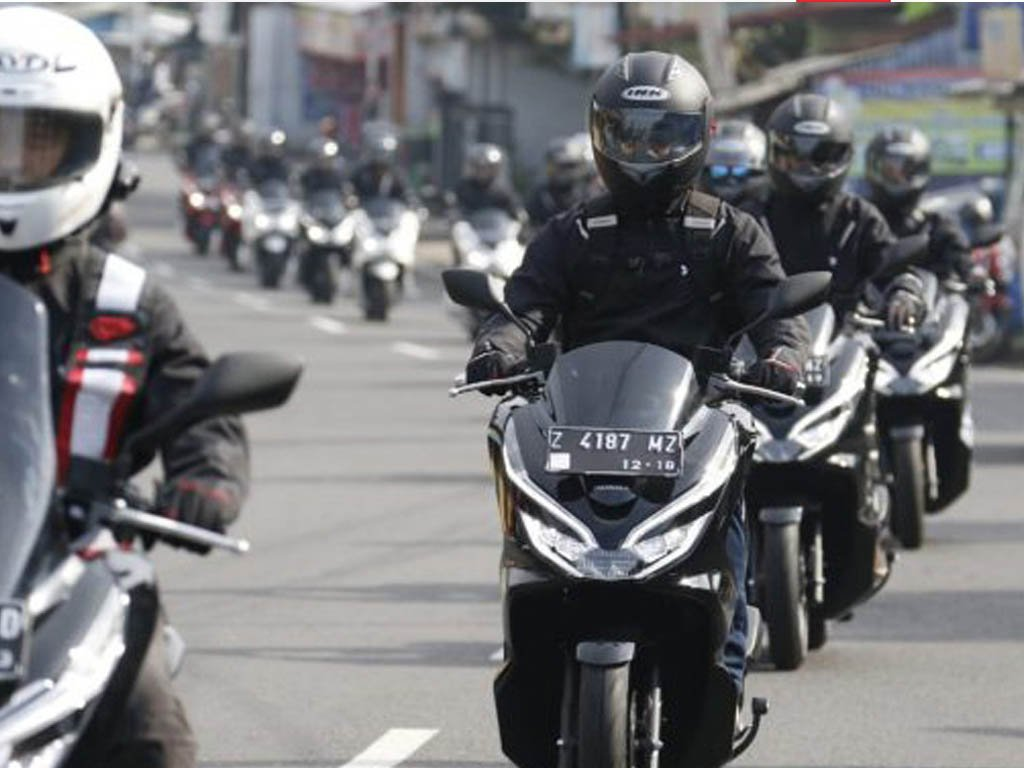motor: (468, 358, 777, 768), (730, 278, 894, 658)
